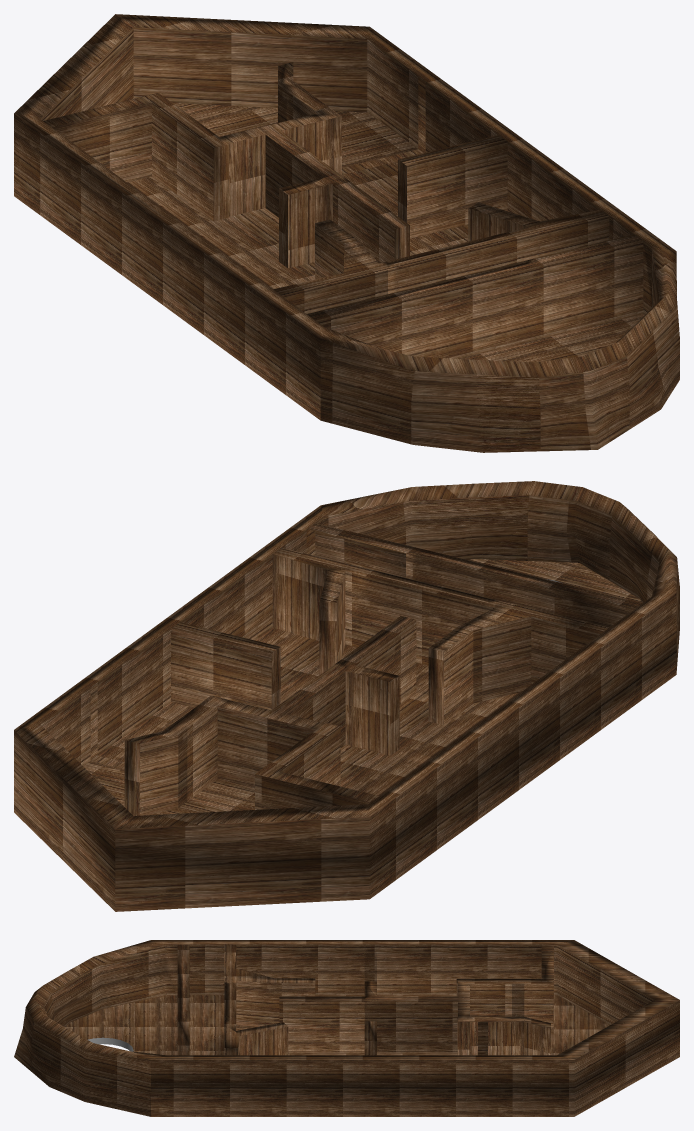
Rendered from ship_base0.fbx.
3 renders of one model, top to bottom at view 1: azimuth 30°, elevation 25°; view 2: azimuth 150°, elevation 25°; view 3: azimuth 270°, elevation 25°, orthographic. The views are drawn at different scales.
Parts seen in each view (by area): view 1: pCube25; view 2: pCube25; view 3: pCube25.
Boxes of the visible parts, x1=… form: pCube25: x1=14, y1=14, x2=679, y2=452; pCube25: x1=14, y1=481, x2=679, y2=911; pCube25: x1=14, y1=940, x2=679, y2=1116.
Bounding box in the file's own units: 5112 × 1135 × 12004.
